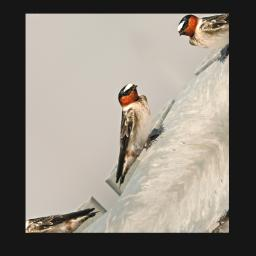Swallow: (73, 77, 176, 189)
